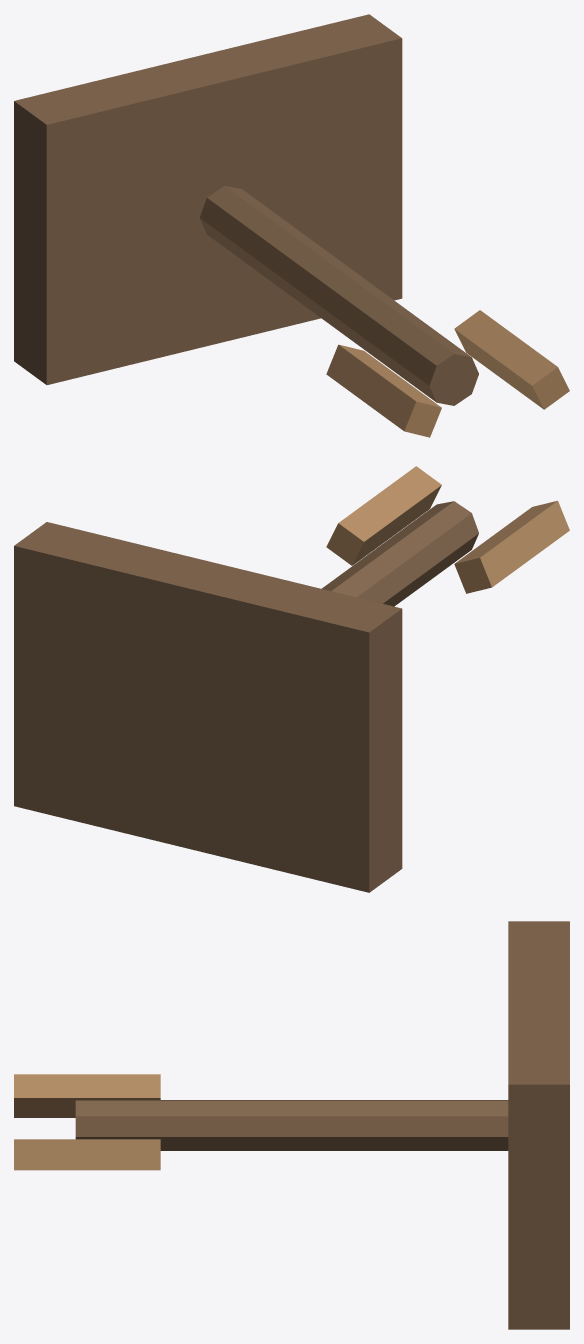
The model's file is display_weapon_stand_single.glb.
The picture shows the model from 3 angles, top to bottom: view 1: azimuth 30°, elevation 25°; view 2: azimuth 150°, elevation 25°; view 3: azimuth 270°, elevation 25°; orthographic projection. The views are drawn at different scales.
Parts seen in each view (by area): view 1: base, post, fork_r, fork_l; view 2: base, post, fork_r, fork_l; view 3: base, post, fork_l, fork_r.
Boxes of the visible parts, x1,y1,x2,y2 form: base: (14,14,402,384); post: (199,185,478,405); fork_r: (454,310,569,409); fork_l: (326,344,441,437); base: (14,522,402,892); post: (321,501,478,606); fork_r: (326,466,441,565); fork_l: (454,500,569,593); base: (508,921,569,1329); post: (75,1100,508,1150); fork_l: (14,1074,160,1117); fork_r: (14,1139,160,1170).
Size of the model in its own units: 1 by 0.7 by 1.44.
